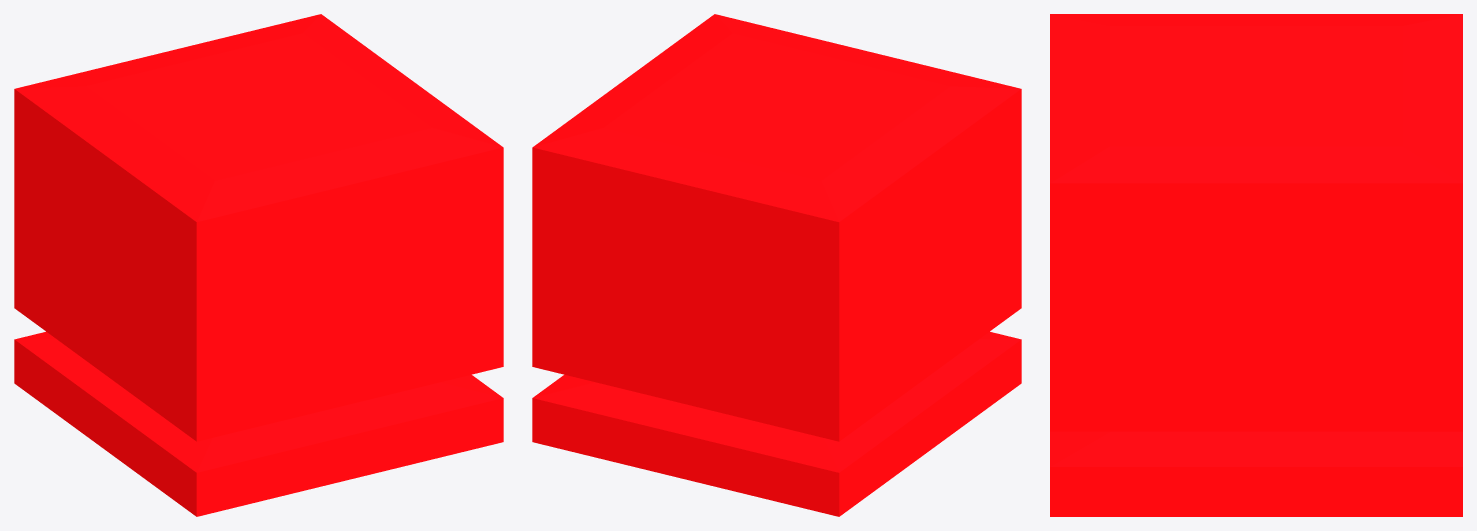
The model's file is exclamationmark.glb.
3 views of the same model, side by side, from view 1: azimuth 30°, elevation 25°; view 2: azimuth 150°, elevation 25°; view 3: azimuth 270°, elevation 25° (orthographic). The views are drawn at different scales.
Parts seen in each view (by area): view 1: Cube.001; view 2: Cube.001; view 3: Cube.001.
Part boxes in pixels (bbox=[...]): Cube.001: bbox=[14, 14, 503, 516]; Cube.001: bbox=[532, 14, 1021, 516]; Cube.001: bbox=[1050, 14, 1462, 516].
Size of the model in its own units: 0.9888 by 0.9688 by 1.02.
